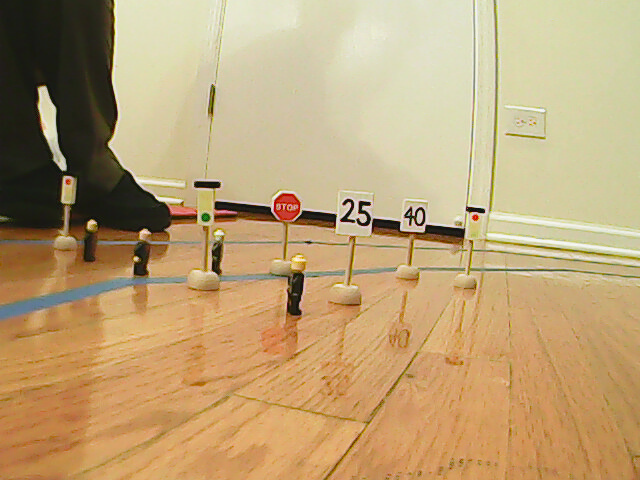Green Traffic Light: (191, 178, 219, 226)
Person: (287, 254, 307, 315), (131, 227, 154, 276), (84, 218, 100, 264), (210, 229, 225, 277)
Red Traffic Light: (59, 169, 78, 205), (464, 206, 481, 244)
Speed Limit 25: (336, 192, 373, 237)
Speed Limit 40: (401, 199, 426, 234)
Stop Sign: (271, 191, 303, 225)
